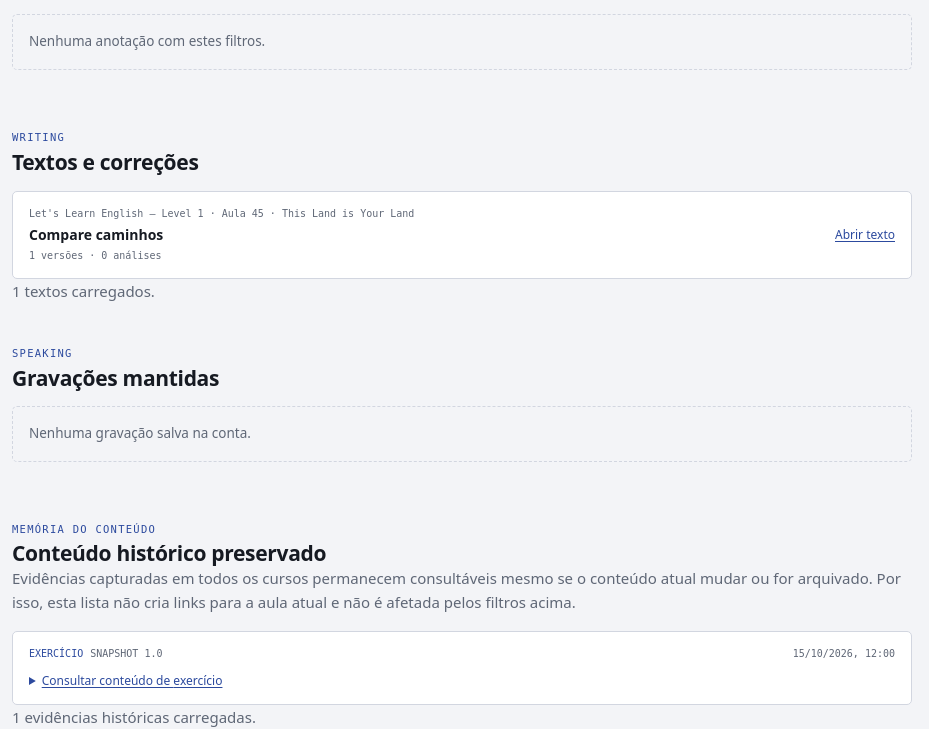
it: NotebookPage › consulta o conteúdo realmente capturado sem apontar para a aula atual
The width and height of the screenshot is (929, 729).
(page scrolled)
Expected: the text "Which train is faster?" is not shown
What coordinates should you click on to do the following:
click the heading "Consultar conteúdo de exercício"
I would click on:
 (132, 680)
Its box is [42,672,222,689].
(page scrolled)
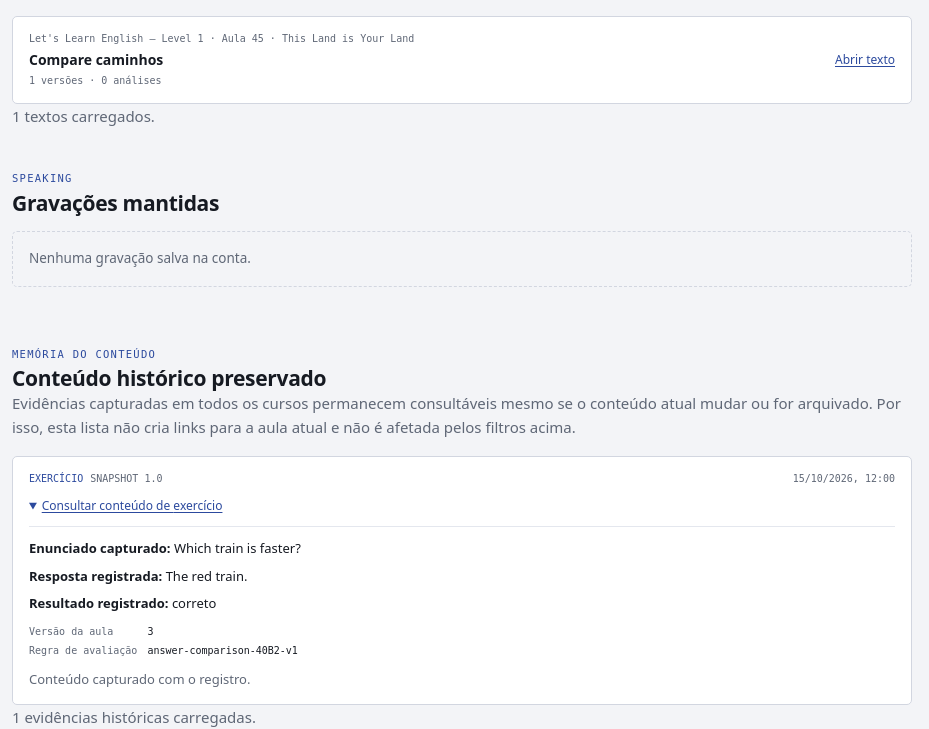
Result: the text "Which train is faster?" is shown at [174,539,301,557]
Result: the text "The red train." is shown at [166,567,247,585]
Result: the text "answer-comparison-40B2-v1" is shown at [147,645,298,656]
